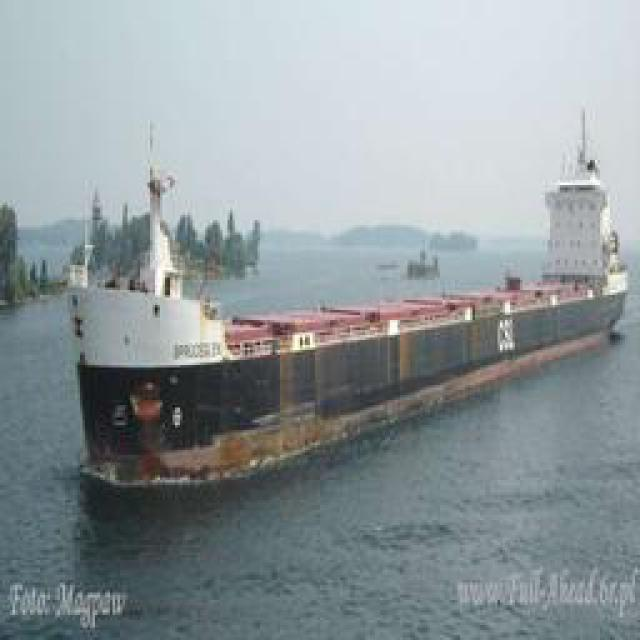Ship: (72, 236, 620, 504)
